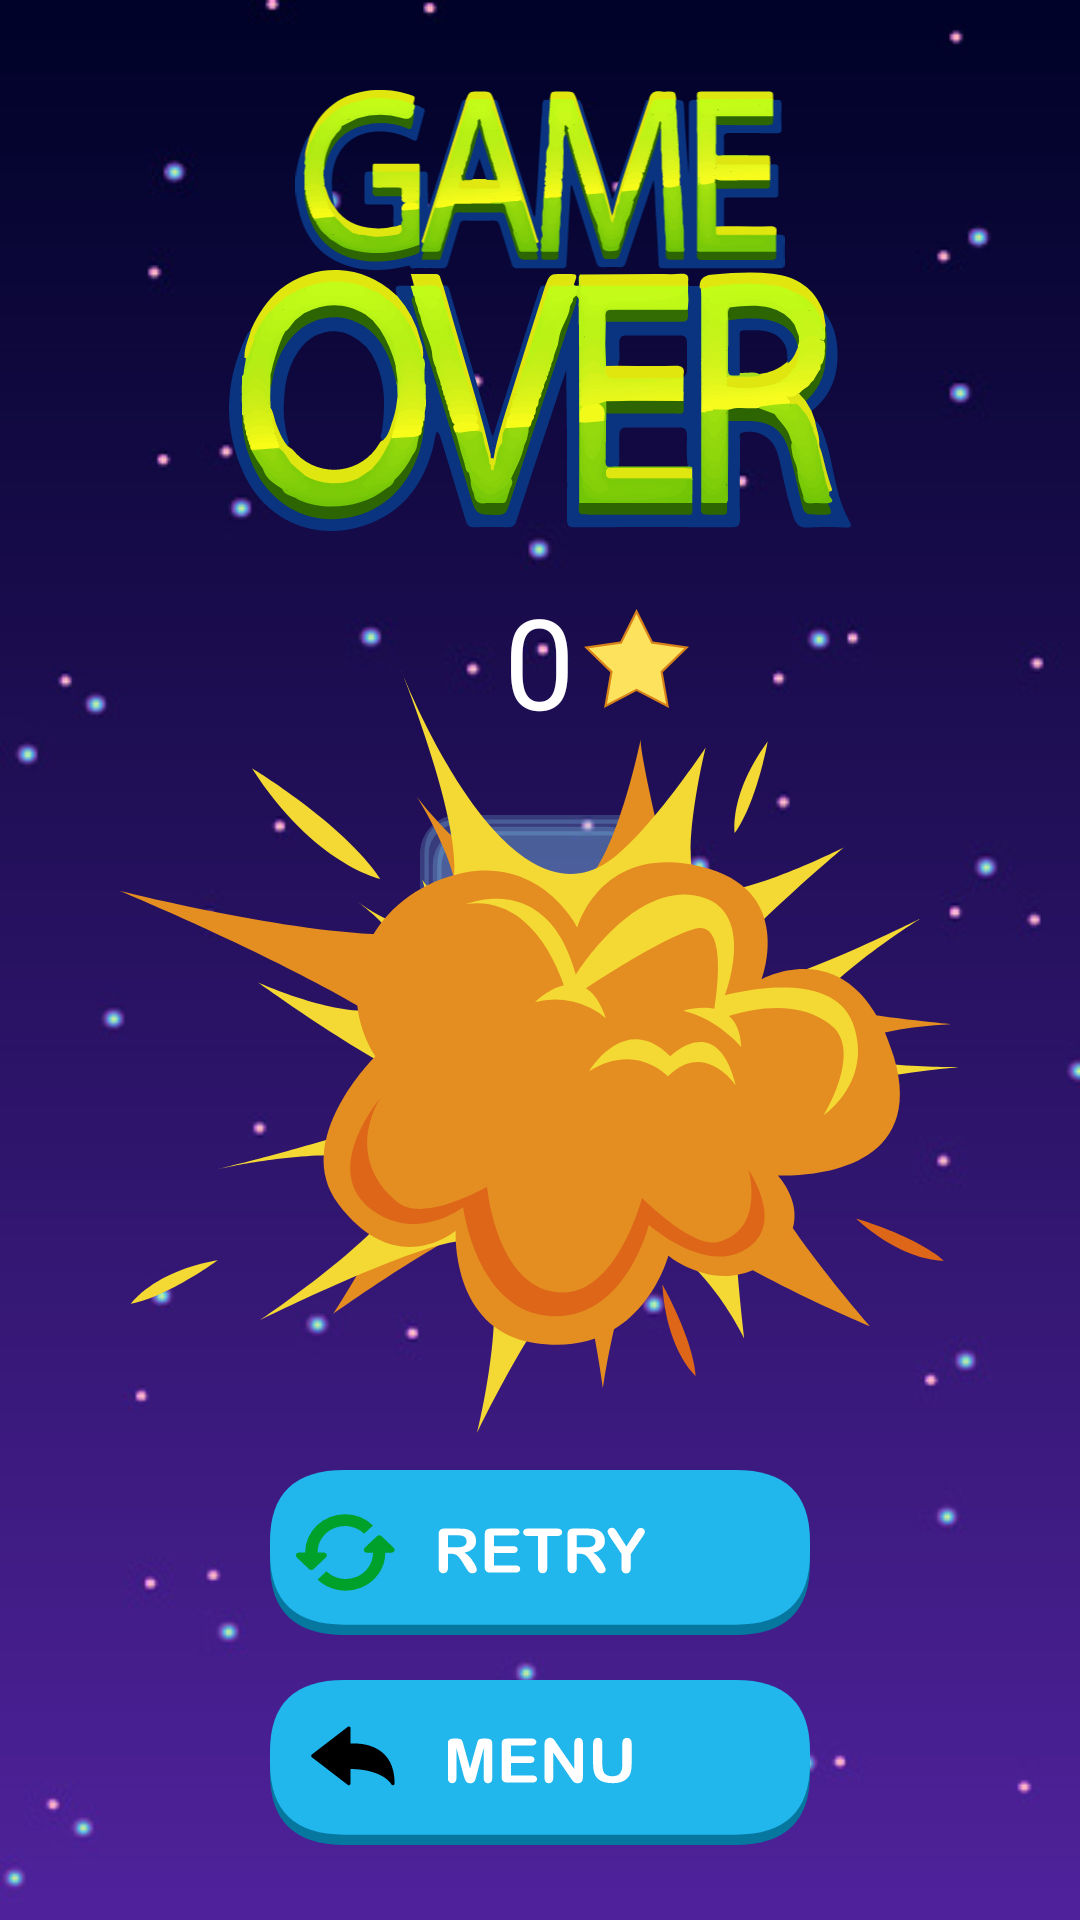

Where to tap for icons on this 1080*1920 app screen, as (x,y):
star collectable: (636,658)
